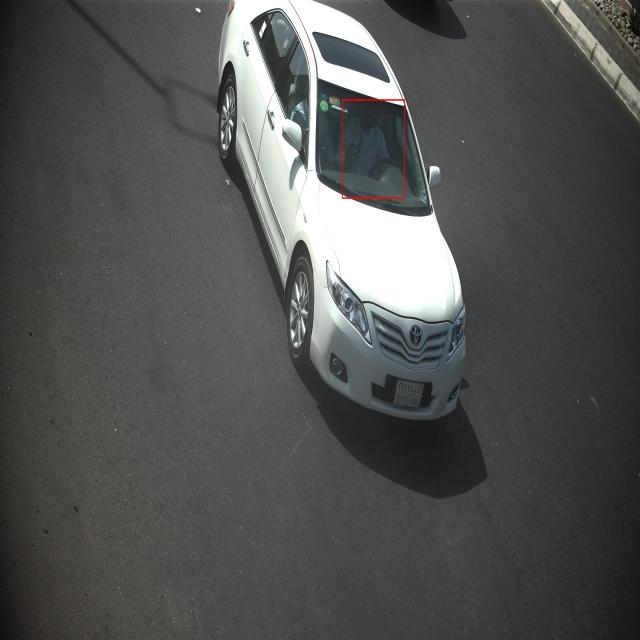windshield: (308, 78, 436, 220)
